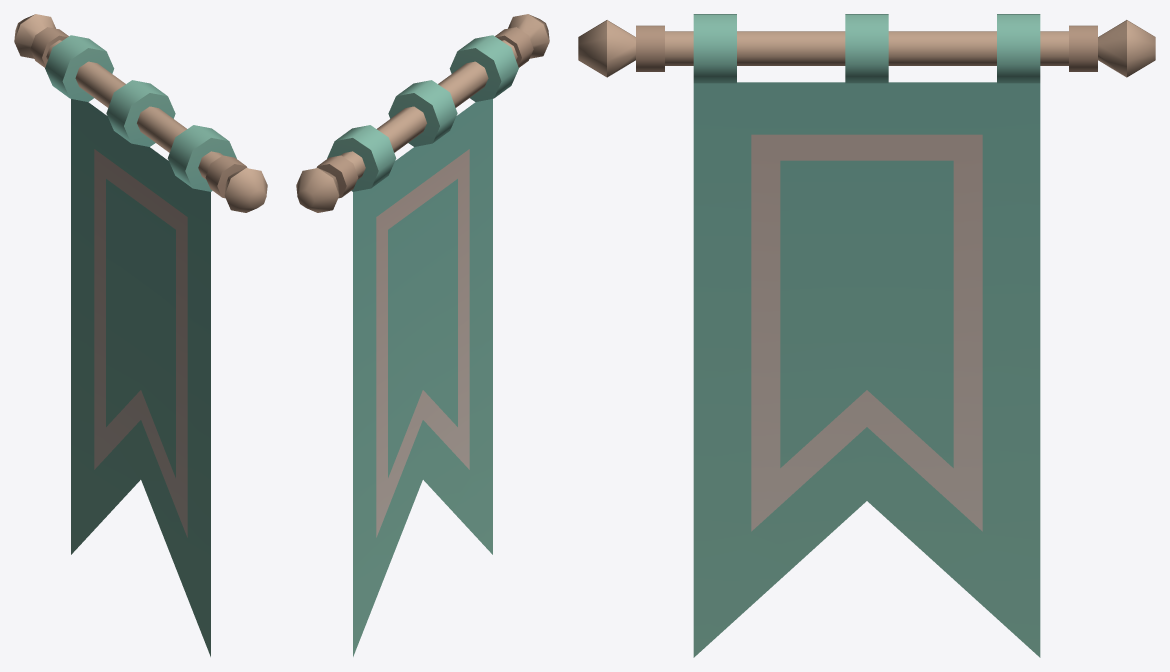
File: banner-medieval (%wall).glb
The picture shows the model from 3 angles, left to right: view 1: azimuth 30°, elevation 25°; view 2: azimuth 150°, elevation 25°; view 3: azimuth 270°, elevation 25°; orthographic projection. The views are drawn at different scales.
Visible parts, largest first — view 1: banner-medieval (%wall); view 2: banner-medieval (%wall); view 3: banner-medieval (%wall).
Part boxes in pixels (<box>): banner-medieval (%wall): <box>14,14,267,656</box>; banner-medieval (%wall): <box>296,14,549,656</box>; banner-medieval (%wall): <box>578,14,1155,657</box>.
Size of the model in its own units: 0.1279 by 1.23 by 1.
